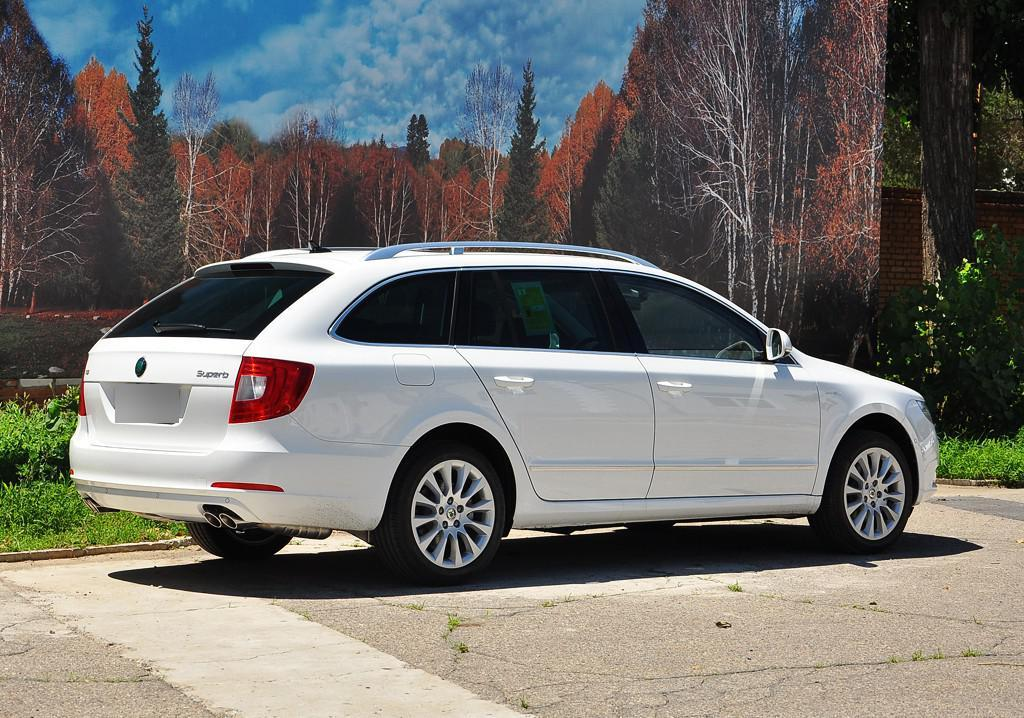Wagon: (65, 242, 941, 584)
